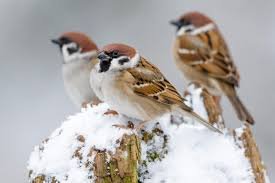home_sparrow: (82, 41, 232, 136), (160, 12, 273, 126), (41, 30, 108, 108)
